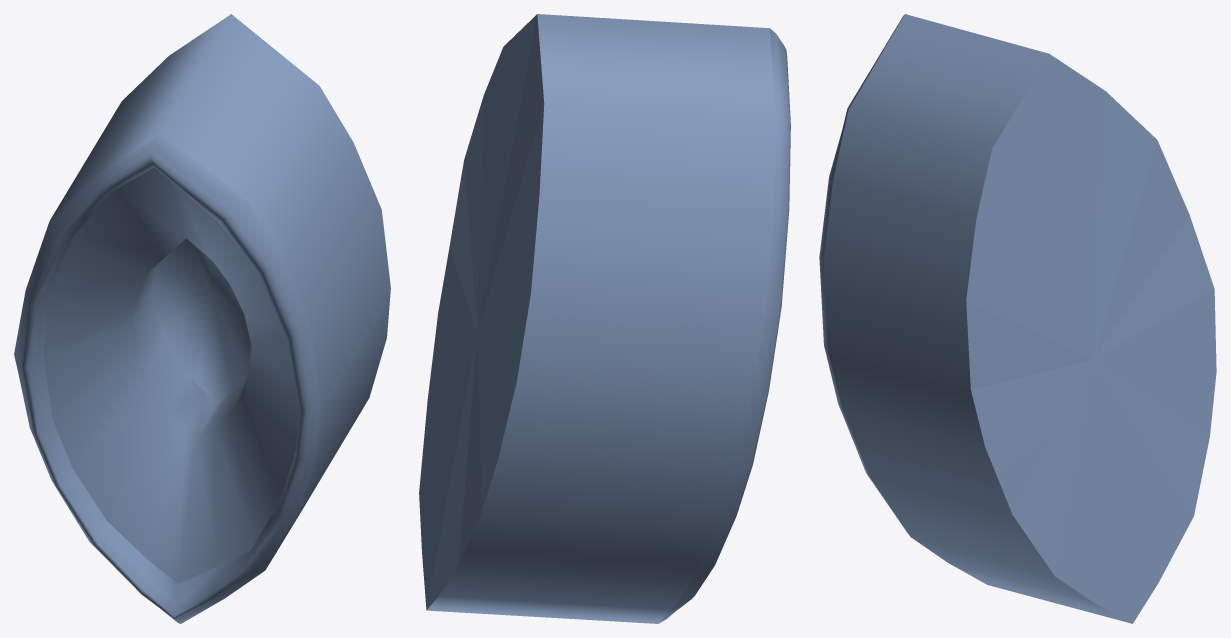
The model's file is TL3_8shapes_Marquise_Classic_Metal.001 3.glb.
The picture shows the model from 3 angles, left to right: view 1: azimuth 30°, elevation 25°; view 2: azimuth 150°, elevation 25°; view 3: azimuth 270°, elevation 25°; orthographic projection. The views are drawn at different scales.
Visible parts, largest first — view 1: TL3_8shapes_Marquise_Classic_Metal.001; view 2: TL3_8shapes_Marquise_Classic_Metal.001; view 3: TL3_8shapes_Marquise_Classic_Metal.001.
Part boxes in pixels (x1,y1,x2,y2): TL3_8shapes_Marquise_Classic_Metal.001: (14, 14, 390, 623); TL3_8shapes_Marquise_Classic_Metal.001: (419, 14, 790, 623); TL3_8shapes_Marquise_Classic_Metal.001: (819, 14, 1216, 623).
Bounding box in the file's own units: 0.4994 × 0.8039 × 0.5068.
